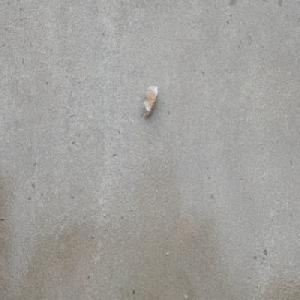Rock: (141, 84, 159, 118)
